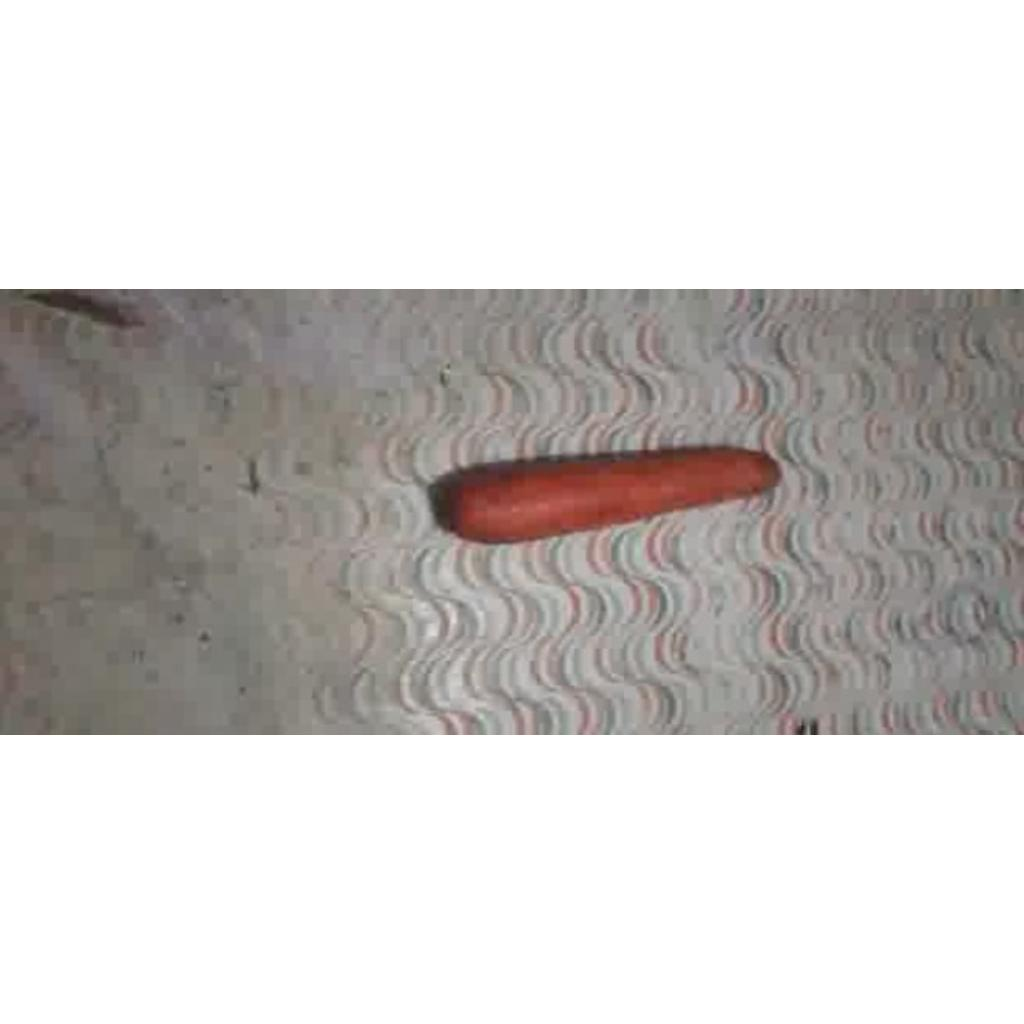carrot: (430, 447, 780, 542)
